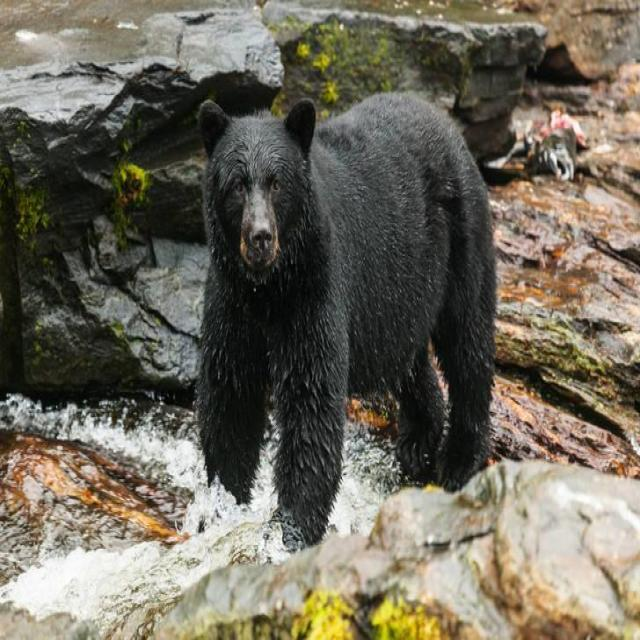Bear: (195, 92, 499, 556)
